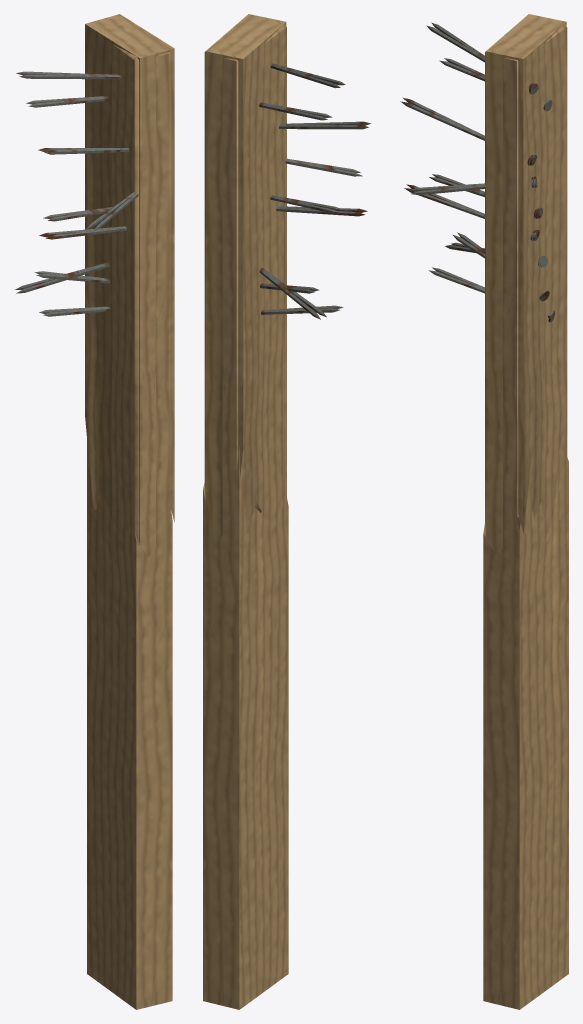
The model's file is board_with_nails.glb.
3 renders of one model, left to right at view 1: azimuth 30°, elevation 25°; view 2: azimuth 150°, elevation 25°; view 3: azimuth 330°, elevation 25°, orthographic.
Visible parts, largest first — view 1: BoardWithNails_Clean_board, BoardWithNails_Broken, BoardWithNails_Broken_nails, BoardWithNails_Clean_nails; view 2: BoardWithNails_Broken, BoardWithNails_Clean_board, BoardWithNails_Clean_nails, BoardWithNails_Broken_nails; view 3: BoardWithNails_Broken, BoardWithNails_Clean_board, BoardWithNails_Broken_nails, BoardWithNails_Clean_nails.
Part boxes in pixels (x1,y1,x2,y2): BoardWithNails_Clean_board: [88, 16, 170, 1006]; BoardWithNails_Broken: [85, 14, 174, 1009]; BoardWithNails_Broken_nails: [16, 74, 138, 316]; BoardWithNails_Clean_nails: [15, 71, 134, 313]; BoardWithNails_Broken: [203, 14, 288, 1009]; BoardWithNails_Clean_board: [204, 16, 286, 1005]; BoardWithNails_Clean_nails: [259, 64, 368, 319]; BoardWithNails_Broken_nails: [260, 63, 371, 317]; BoardWithNails_Broken: [483, 14, 568, 1009]; BoardWithNails_Clean_board: [485, 16, 567, 1006]; BoardWithNails_Broken_nails: [400, 25, 554, 314]; BoardWithNails_Clean_nails: [403, 22, 554, 322].
Size of the model in its own units: 0.1392 by 0.95 by 0.118.
2 materials, 2 textured.
